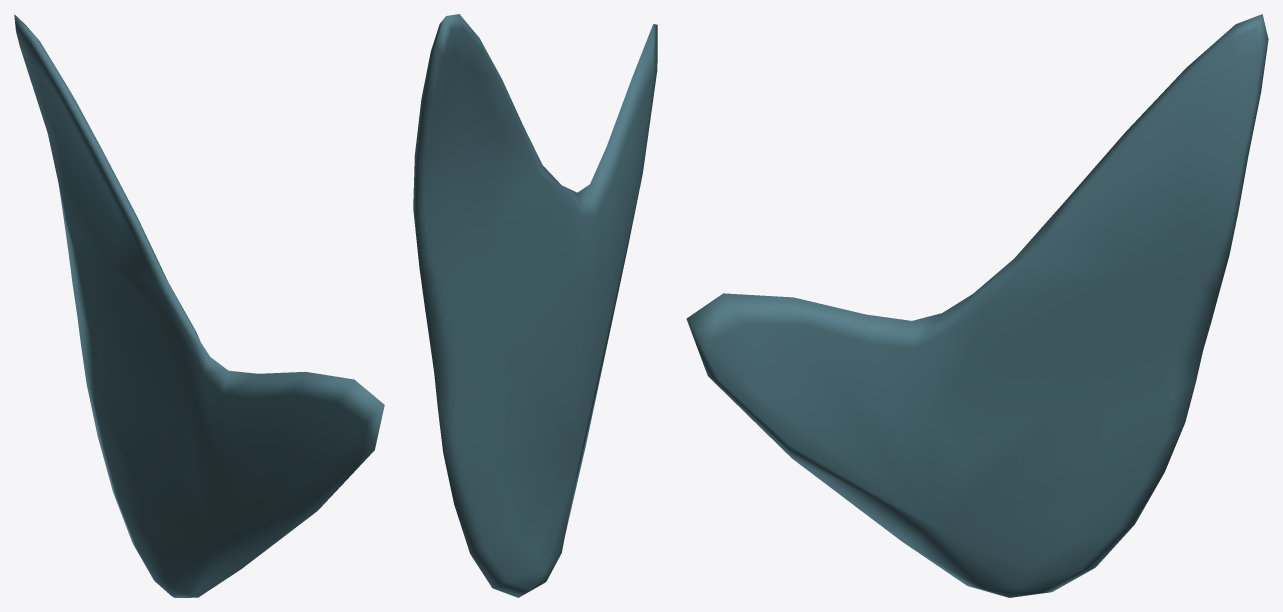
The model's file is Medial_pterygoid_mandibular_angle_right.glb.
The picture shows the model from 3 angles, left to right: view 1: azimuth 30°, elevation 25°; view 2: azimuth 150°, elevation 25°; view 3: azimuth 270°, elevation 25°; orthographic projection. The views are drawn at different scales.
Parts seen in each view (by area): view 1: Medial_pterygoid_muscle_on_the_mandibular_angle.r_Generated_; view 2: Medial_pterygoid_muscle_on_the_mandibular_angle.r_Generated_; view 3: Medial_pterygoid_muscle_on_the_mandibular_angle.r_Generated_.
Boxes of the visible parts, left/top/right/bottom form: Medial_pterygoid_muscle_on_the_mandibular_angle.r_Generated_: left=14, top=14, right=384, bottom=597; Medial_pterygoid_muscle_on_the_mandibular_angle.r_Generated_: left=413, top=14, right=657, bottom=597; Medial_pterygoid_muscle_on_the_mandibular_angle.r_Generated_: left=686, top=14, right=1268, bottom=597.
Size of the model in its own units: 0.00406 by 0.0182 by 0.0172.
